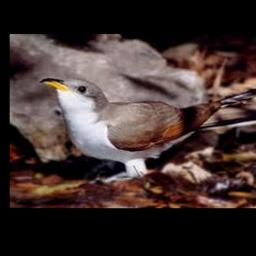Cuckoo: (40, 78, 256, 180)
